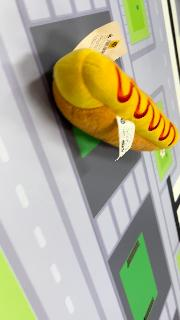hotdog: (52, 47, 180, 153)
